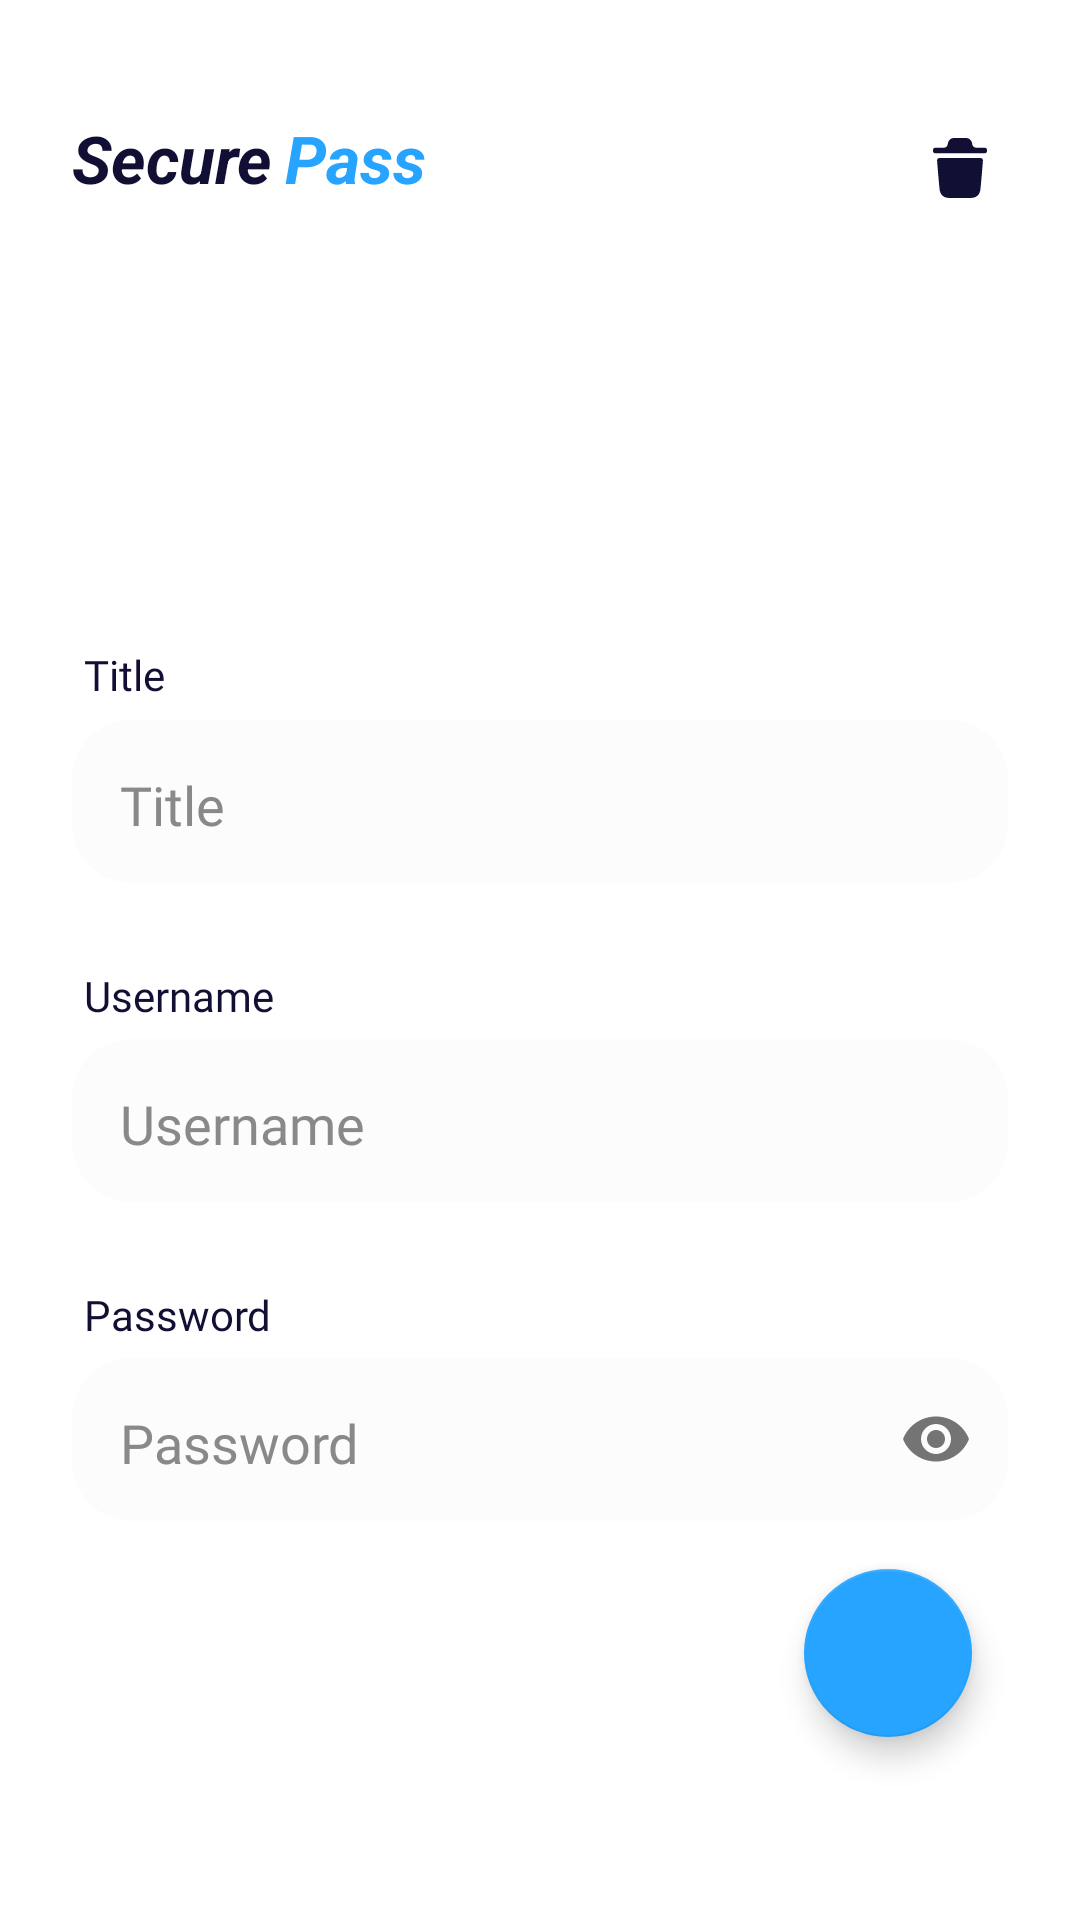

Named icons in this screenshot (1080w x 1920h) and their centers, (x,y):
delete: (960,168)
